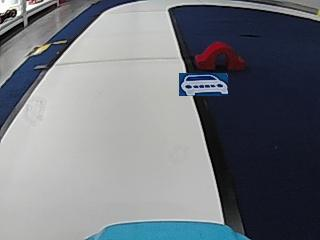bridge: (196, 41, 243, 71)
